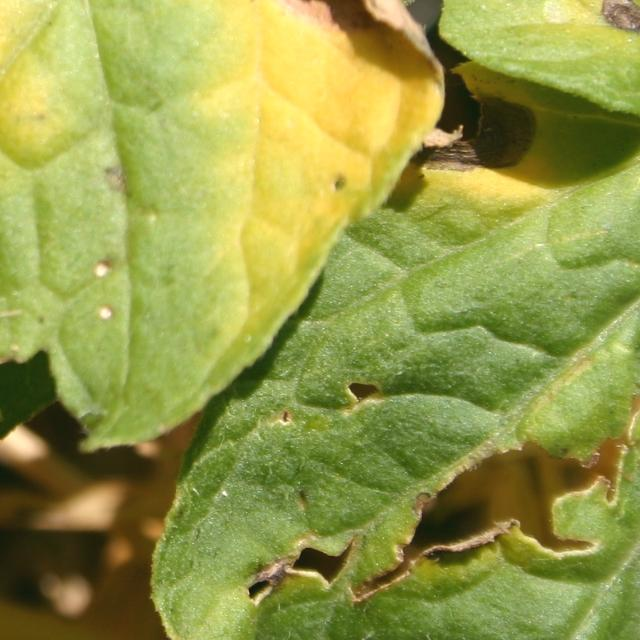Tomato Early blight leaf: (0, 0, 332, 538)
